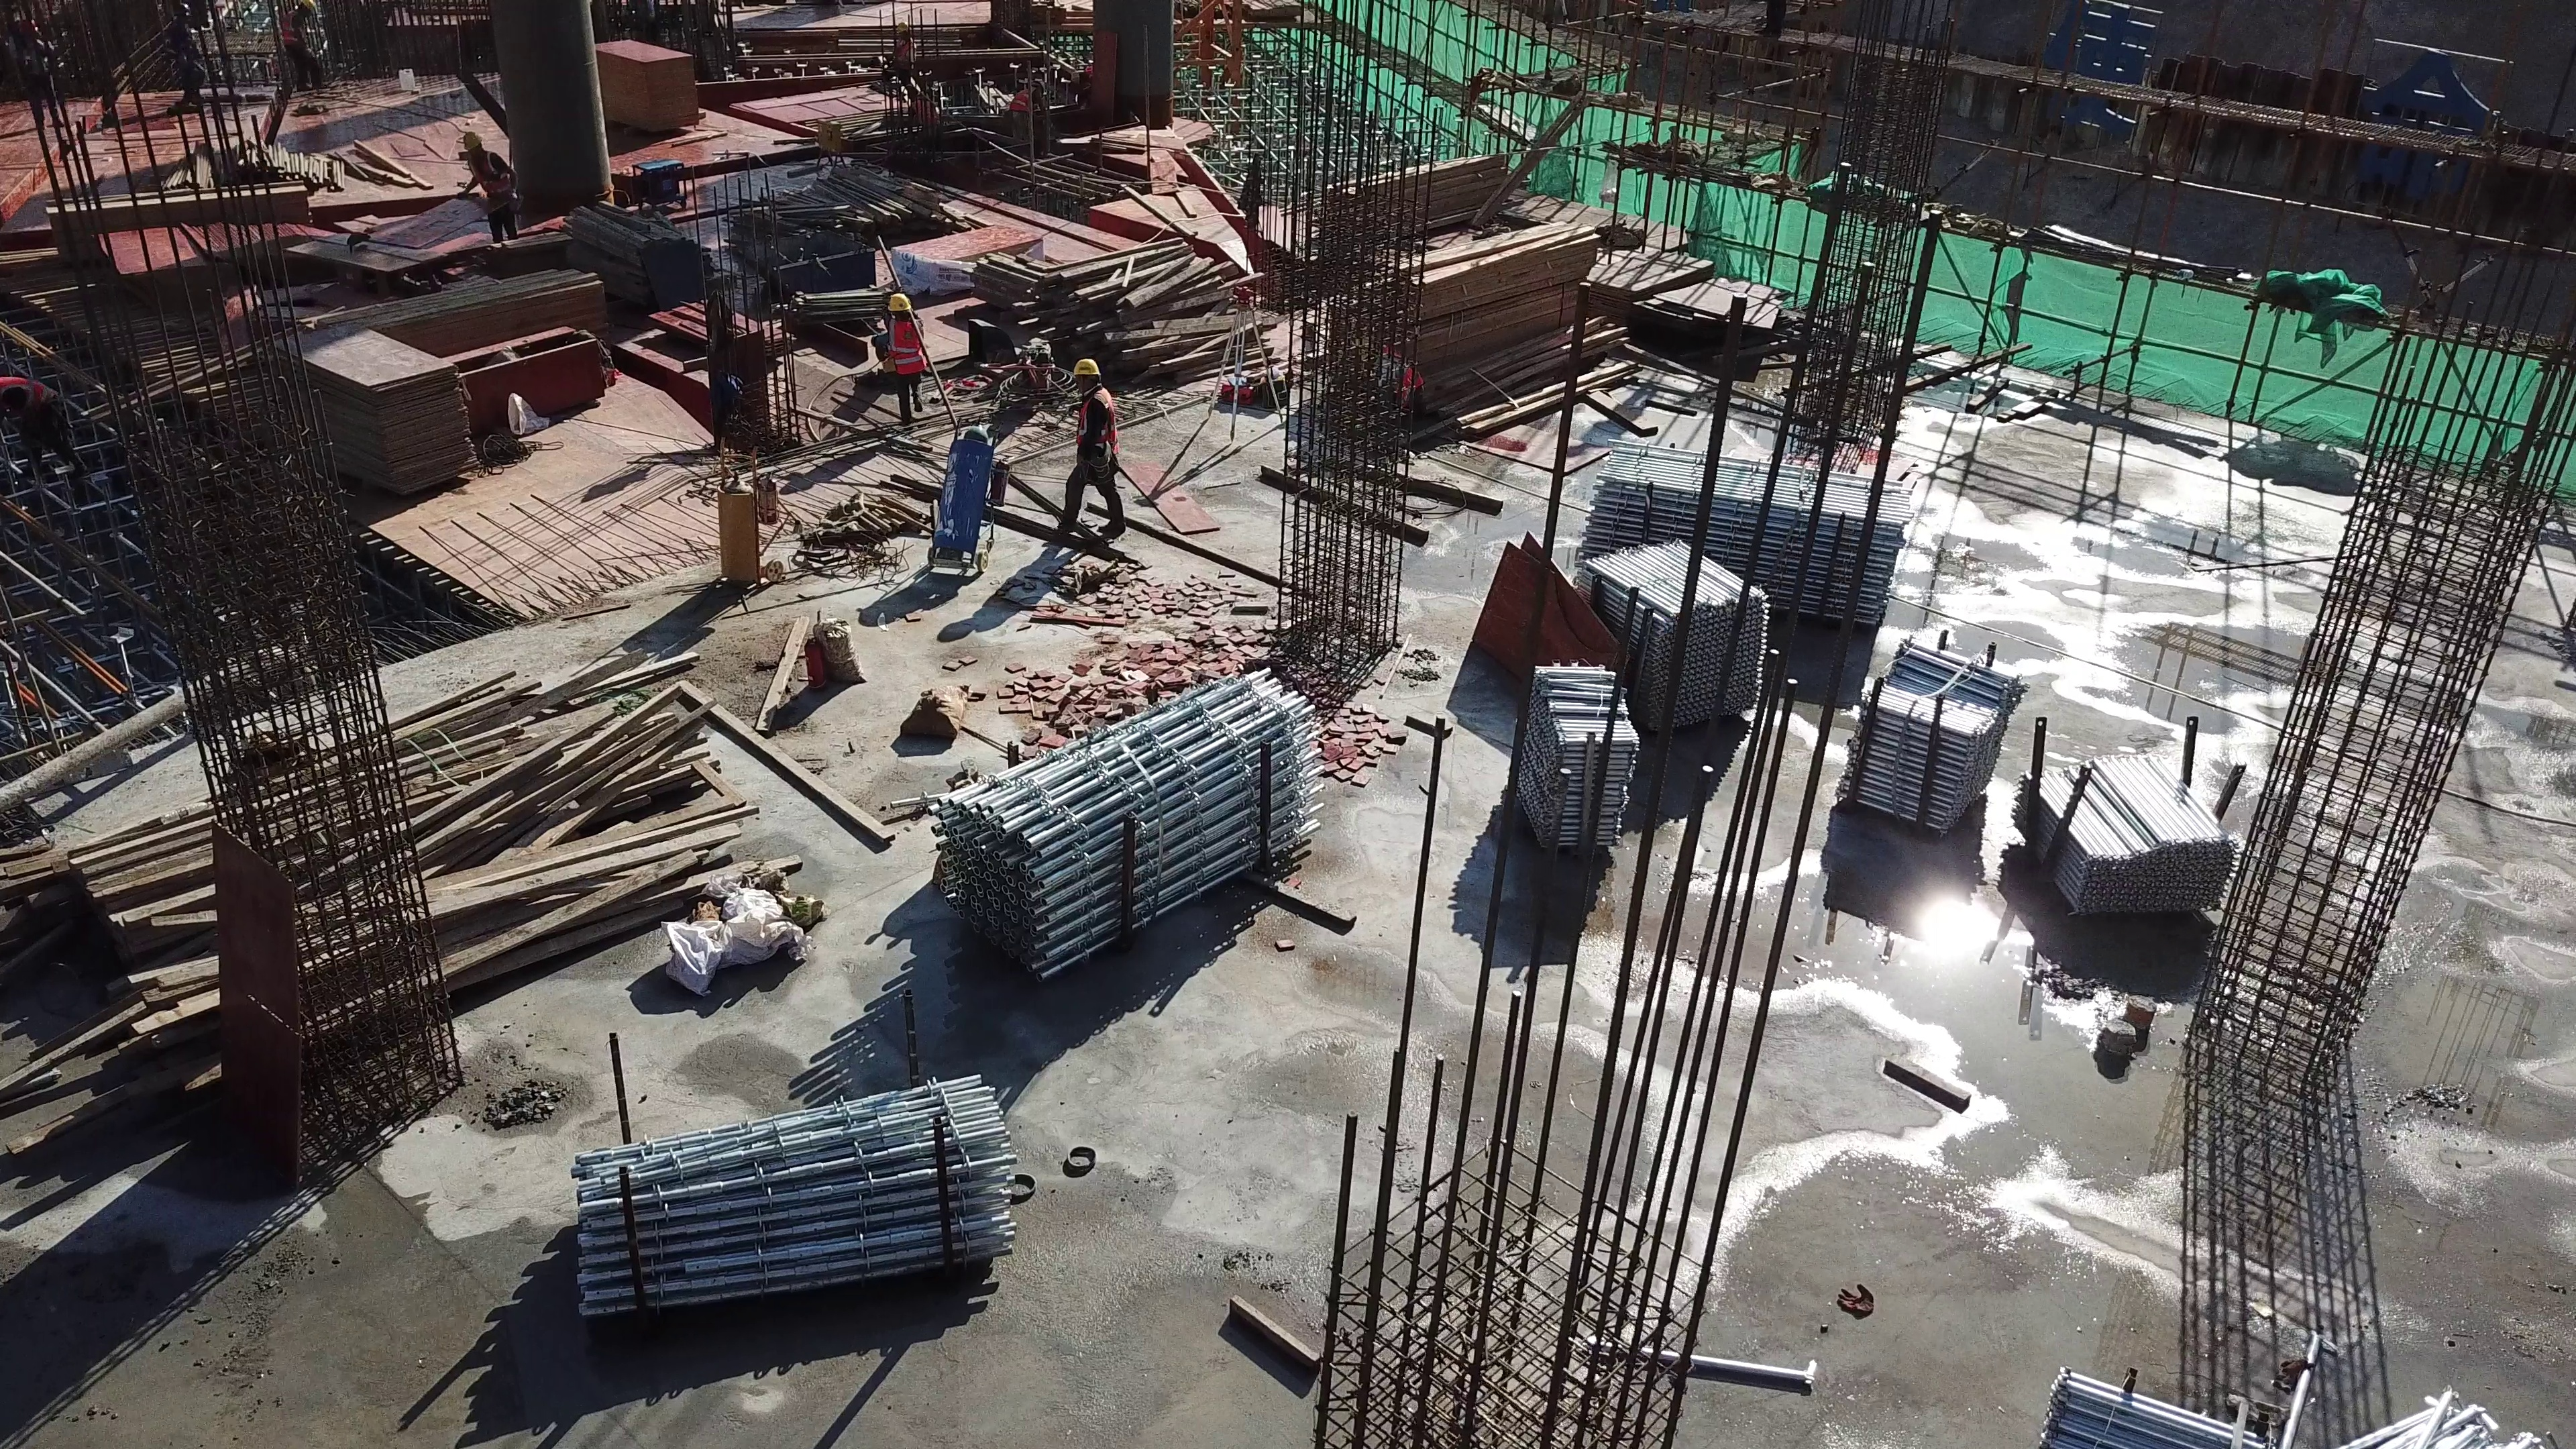board: (265, 321, 471, 492), (594, 40, 695, 132), (894, 224, 1038, 264)
cutter: (290, 235, 437, 283)
ebox: (820, 119, 844, 164)
helmet: (1072, 355, 1099, 378), (889, 292, 910, 313), (465, 130, 481, 150)
hopper: (749, 233, 875, 303)
person: (1053, 358, 1126, 538), (1, 372, 85, 480), (456, 131, 519, 244), (878, 292, 928, 425), (1348, 339, 1427, 417), (15, 18, 64, 129), (282, 1, 327, 89), (172, 5, 205, 108), (1005, 78, 1047, 132), (894, 22, 912, 85), (906, 94, 941, 126)
scaffold: (930, 675, 1309, 961), (573, 1075, 1016, 1316), (1591, 437, 1896, 628), (2046, 1362, 2515, 1449), (1585, 542, 1763, 731), (2019, 743, 2209, 918), (1831, 653, 2026, 820), (1518, 680, 1627, 851)
vest: (3, 376, 59, 423), (1077, 391, 1116, 455), (887, 319, 925, 379), (1379, 346, 1418, 390), (467, 152, 508, 193), (284, 10, 300, 44), (1012, 87, 1029, 112)
wood: (309, 257, 615, 364), (1370, 225, 1595, 353), (1356, 148, 1509, 250), (42, 191, 309, 227)
